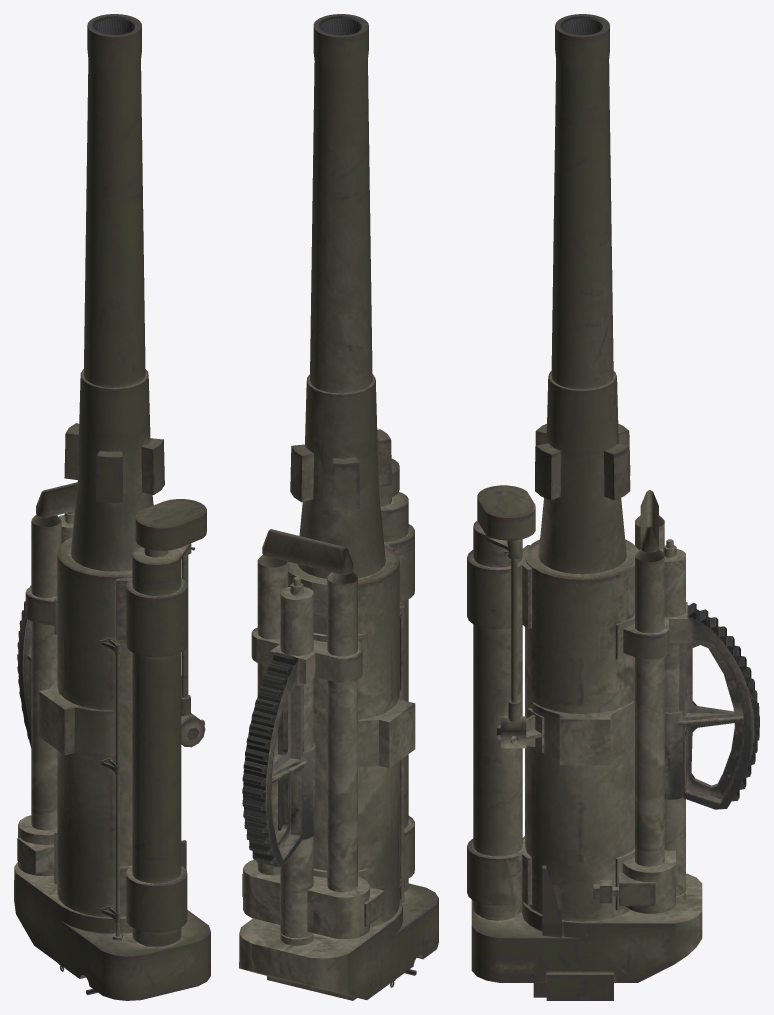
The model's file is Gun_02.glb.
3 views of the same model, side by side, from view 1: azimuth 30°, elevation 25°; view 2: azimuth 150°, elevation 25°; view 3: azimuth 270°, elevation 25° (orthographic).
Parts seen in each view (by area): view 1: set_0_group_0; view 2: set_0_group_0; view 3: set_0_group_0.
Part boxes in pixels (x1,y1,x2,y2): set_0_group_0: (14, 14, 210, 1000); set_0_group_0: (239, 14, 438, 1000); set_0_group_0: (467, 14, 759, 1000).
Size of the model in its own units: 0.7056 by 5.23 by 1.45.
Materials: 1 (1 with a texture image).
